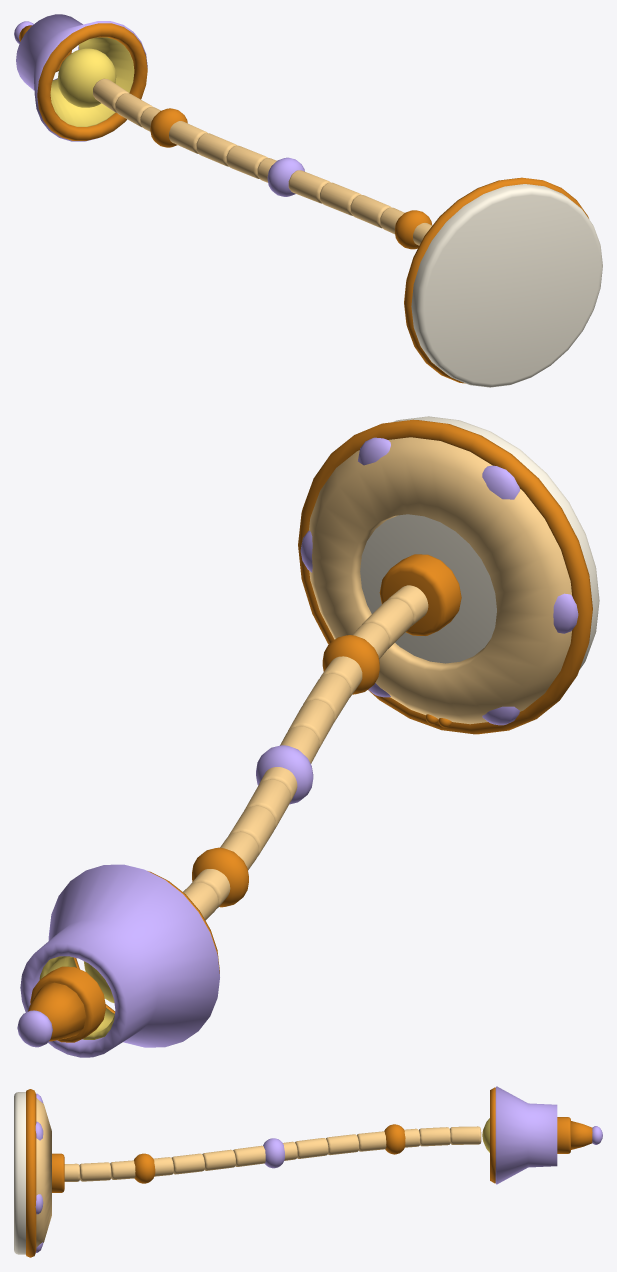
The model's file is LoftArcLamp_Premium.fbx.
3 renders of one model, top to bottom at view 1: azimuth 30°, elevation 25°; view 2: azimuth 150°, elevation 25°; view 3: azimuth 270°, elevation 25°, orthographic. The views are drawn at different scales.
Visible parts, largest first — view 1: LoftArcLamp; view 2: LoftArcLamp; view 3: LoftArcLamp.
Part boxes in pixels (<box>): LoftArcLamp: <box>14,14,602,387</box>; LoftArcLamp: <box>17,416,599,1057</box>; LoftArcLamp: <box>14,1086,602,1257</box>.
Bounding box in the file's own units: 0.7037 × 0.532 × 1.85.
